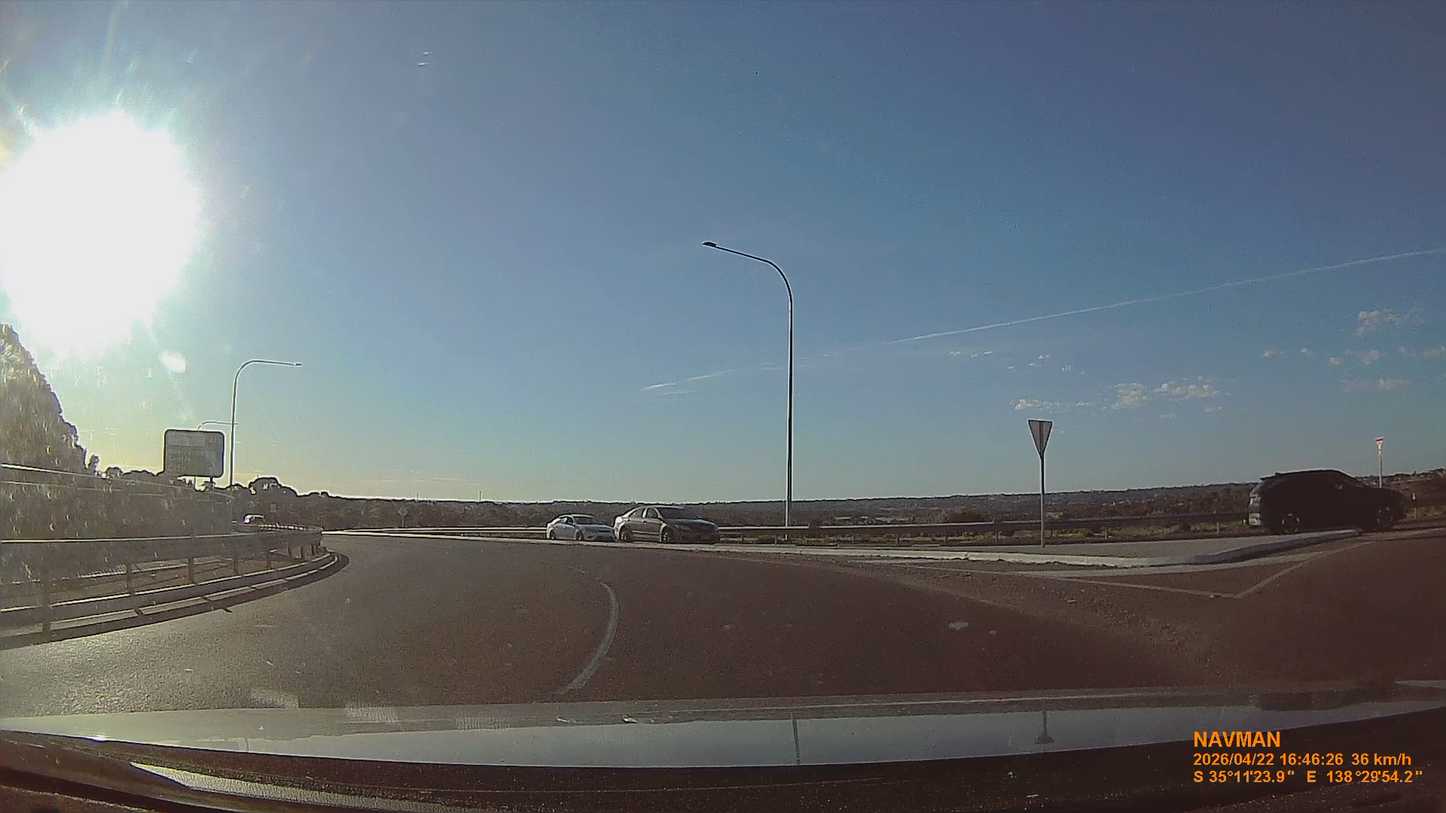road barriers: (0, 525, 322, 581), (718, 519, 1039, 547)
